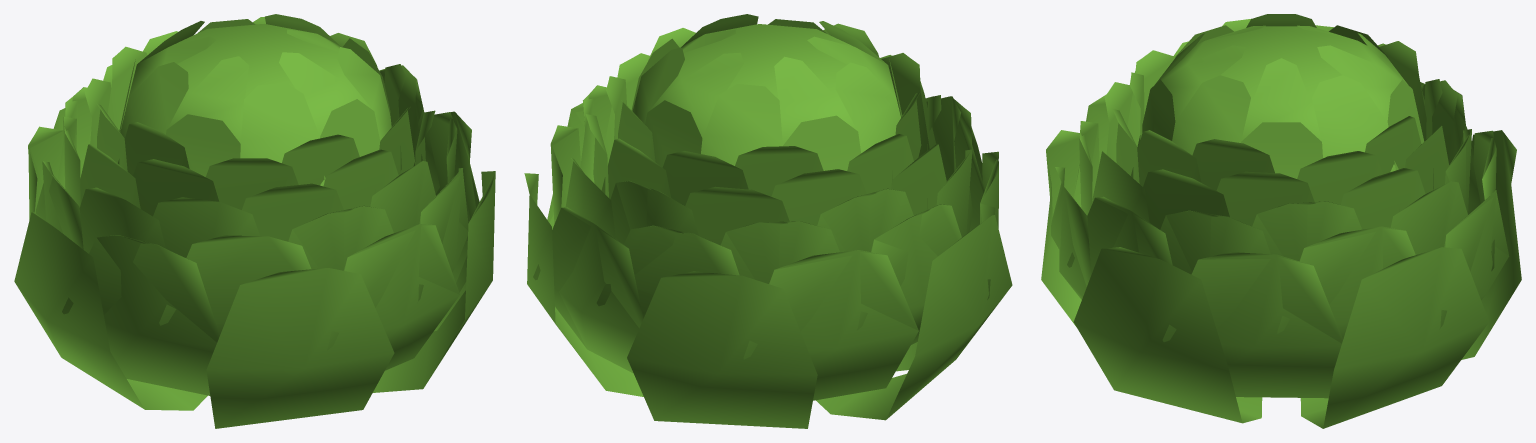
Rendered from Vegetable.fbx.
3 renders of one model, left to right at view 1: azimuth 30°, elevation 25°; view 2: azimuth 150°, elevation 25°; view 3: azimuth 270°, elevation 25°, orthographic.
Visible parts, largest first — view 1: Cube; view 2: Cube; view 3: Cube.
Part boxes in pixels (x1,y1,x2,y2): Cube: (14, 14, 495, 428); Cube: (524, 14, 1012, 428); Cube: (1041, 14, 1521, 428).
Bounding box in the file's own units: 1.22 × 0.9401 × 1.24.
